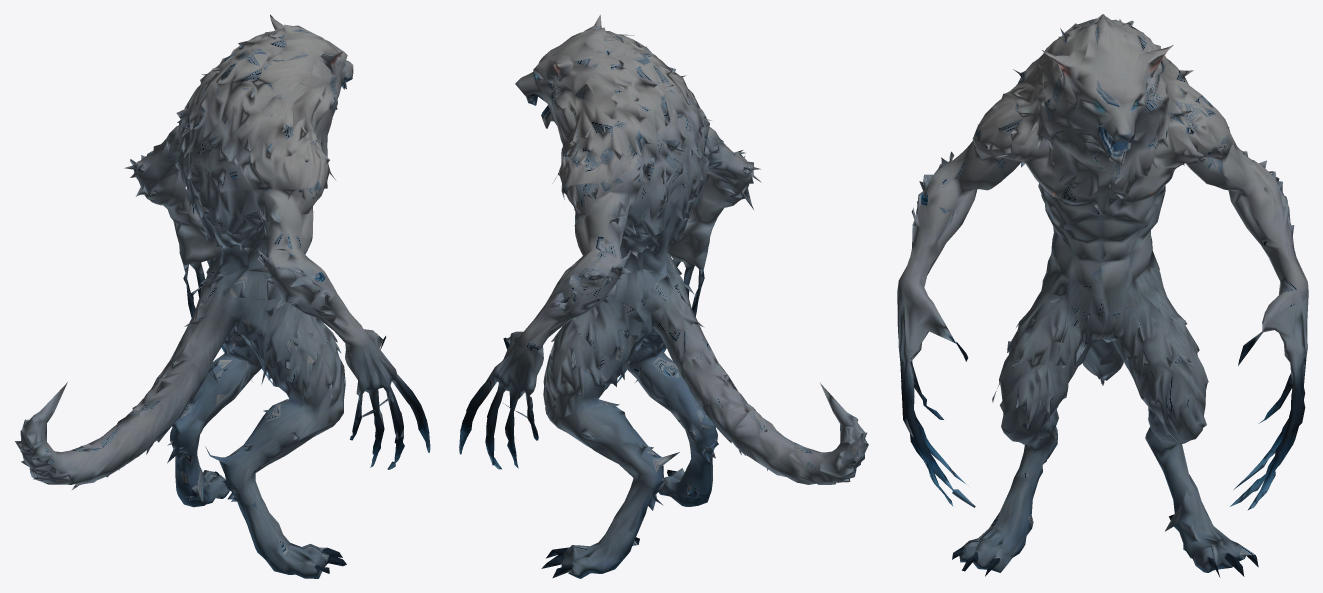
3 views of the same model, side by side, from view 1: azimuth 30°, elevation 25°; view 2: azimuth 150°, elevation 25°; view 3: azimuth 270°, elevation 25° (orthographic). The views are drawn at different scales.
Visible parts, largest first — view 1: pale_dread_white_werewolf_runtime; view 2: pale_dread_white_werewolf_runtime; view 3: pale_dread_white_werewolf_runtime.
Boxes of the visible parts, x1=… form: pale_dread_white_werewolf_runtime: x1=15, y1=14, x2=430, y2=578; pale_dread_white_werewolf_runtime: x1=459, y1=14, x2=868, y2=578; pale_dread_white_werewolf_runtime: x1=897, y1=14, x2=1308, y2=577.
Bounding box in the file's own units: 0.7189 × 0.997 × 0.6586.
Materials: 1 (1 with a texture image).
